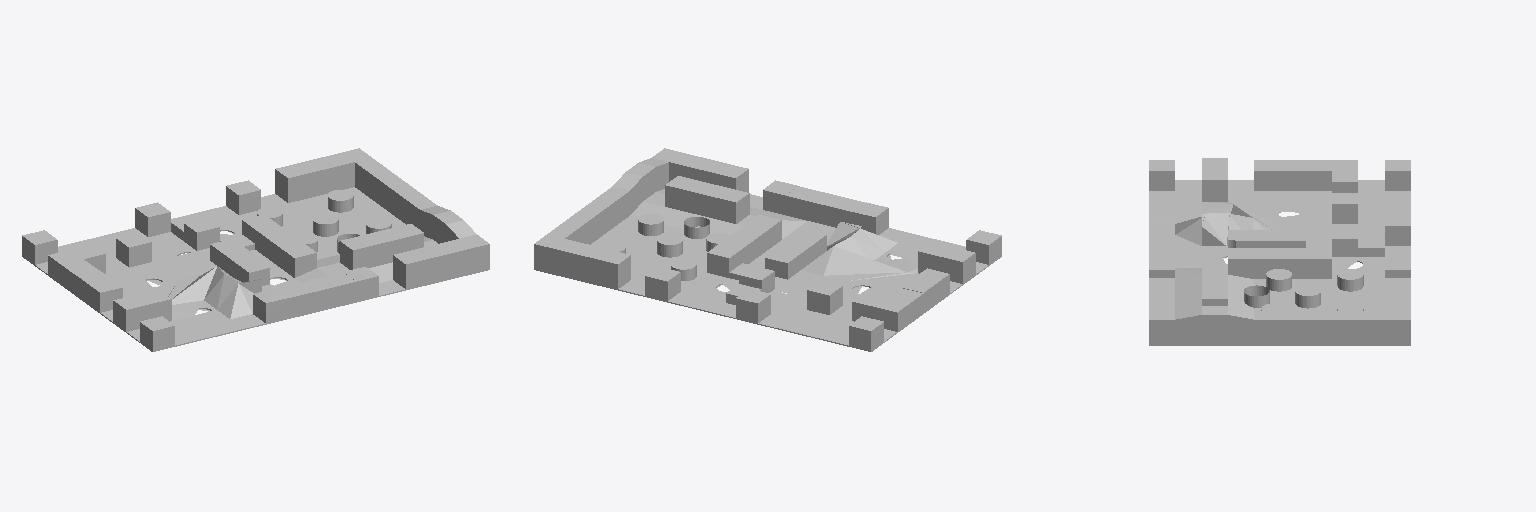
The model's file is Nivel5.obj.
The picture shows the model from 3 angles: view 1: azimuth 30°, elevation 25°; view 2: azimuth 150°, elevation 25°; view 3: azimuth 270°, elevation 25°; orthographic projection.
Visible parts, largest first — view 1: Cube, Cylinder.001_Cylinder.002; view 2: Cube, Cylinder_Cylinder.001; view 3: Cube, Cylinder.002_Cylinder.003, Cylinder.003_Cylinder.004.
Part boxes in pixels (x1,y1,x2,y2): Cube: (22, 148, 489, 351); Cylinder.001_Cylinder.002: (328, 190, 353, 212); Cube: (534, 148, 1001, 351); Cylinder_Cylinder.001: (638, 214, 663, 235); Cube: (1149, 158, 1410, 345); Cylinder.002_Cylinder.003: (1337, 269, 1363, 291); Cylinder.003_Cylinder.004: (1266, 269, 1291, 291).
Size of the model in its own units: 29.81 by 3.96 by 20.